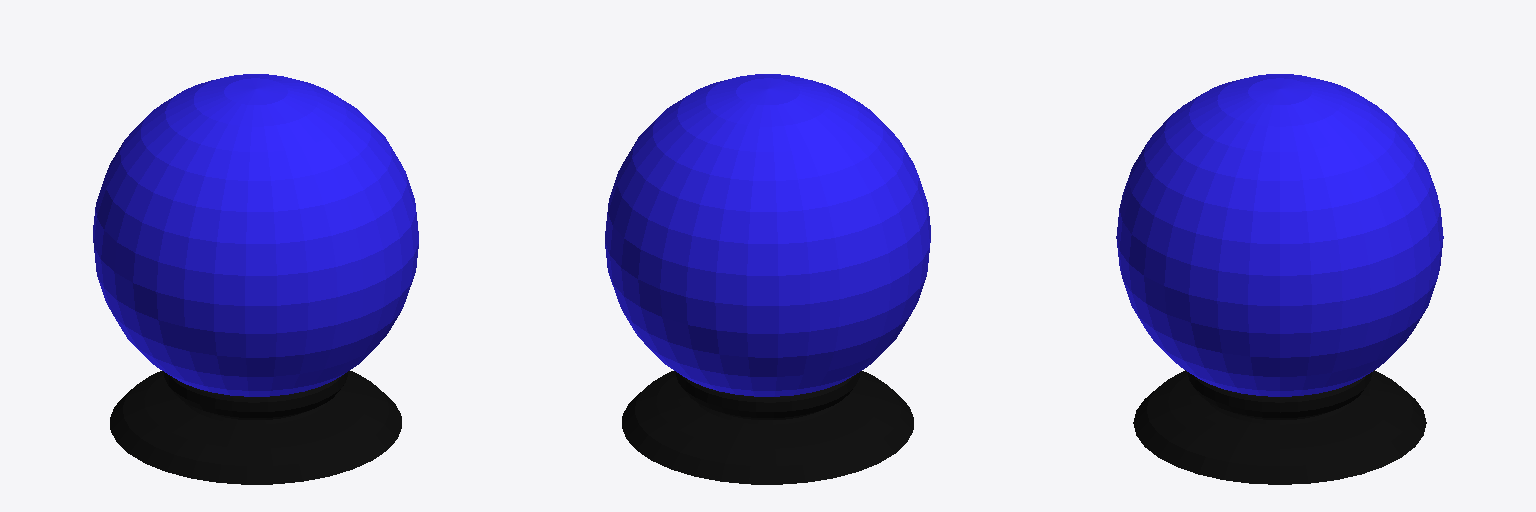
Rendered from magic_orb.obj.
3 views of the same model, side by side, from view 1: azimuth 30°, elevation 25°; view 2: azimuth 150°, elevation 25°; view 3: azimuth 270°, elevation 25° (orthographic).
Parts seen in each view (by area): view 1: orb_Cylinder.003; view 2: orb_Cylinder.003; view 3: orb_Cylinder.003.
Part boxes in pixels (x1,y1,x2,y2): orb_Cylinder.003: (93, 74, 418, 484); orb_Cylinder.003: (605, 74, 930, 484); orb_Cylinder.003: (1116, 74, 1443, 484).
Bounding box in the file's own units: 1.18 × 1.33 × 1.18.